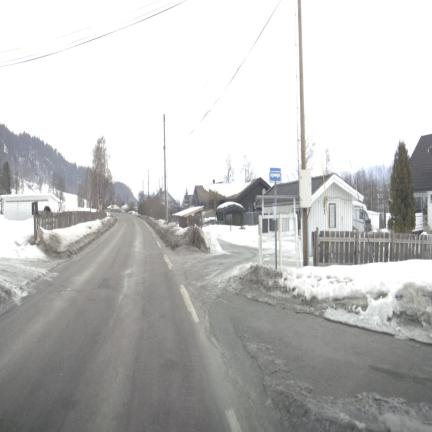Road: (0, 215, 268, 431)
